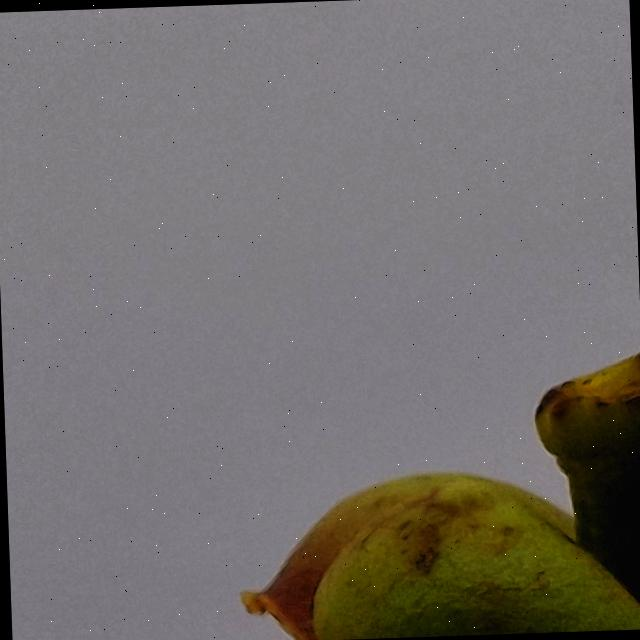mangosteen: (0, 279, 640, 640)
